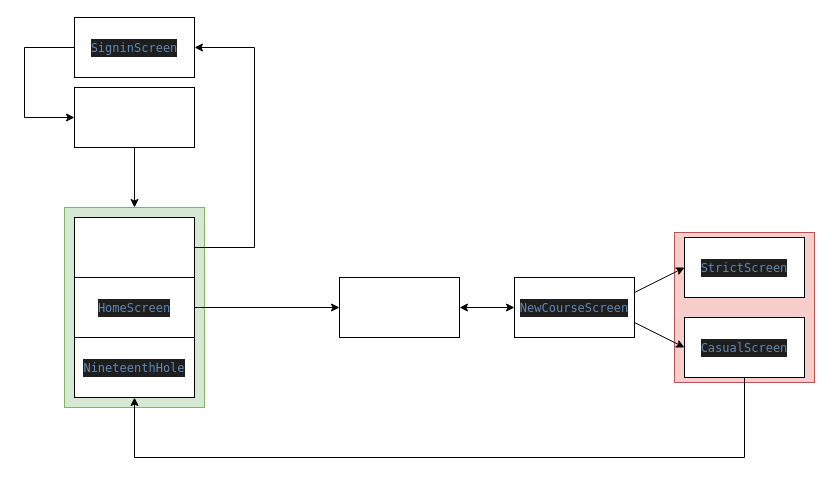
Image size: 832x483. Some labels were removed from this diagram. The centre of each missing label's shape, as x and y in pixels:
"AccountScreen" goes at [134,247].
"NewGameScreen" goes at [399,307].
"SignupScreen" goes at [134,117].
